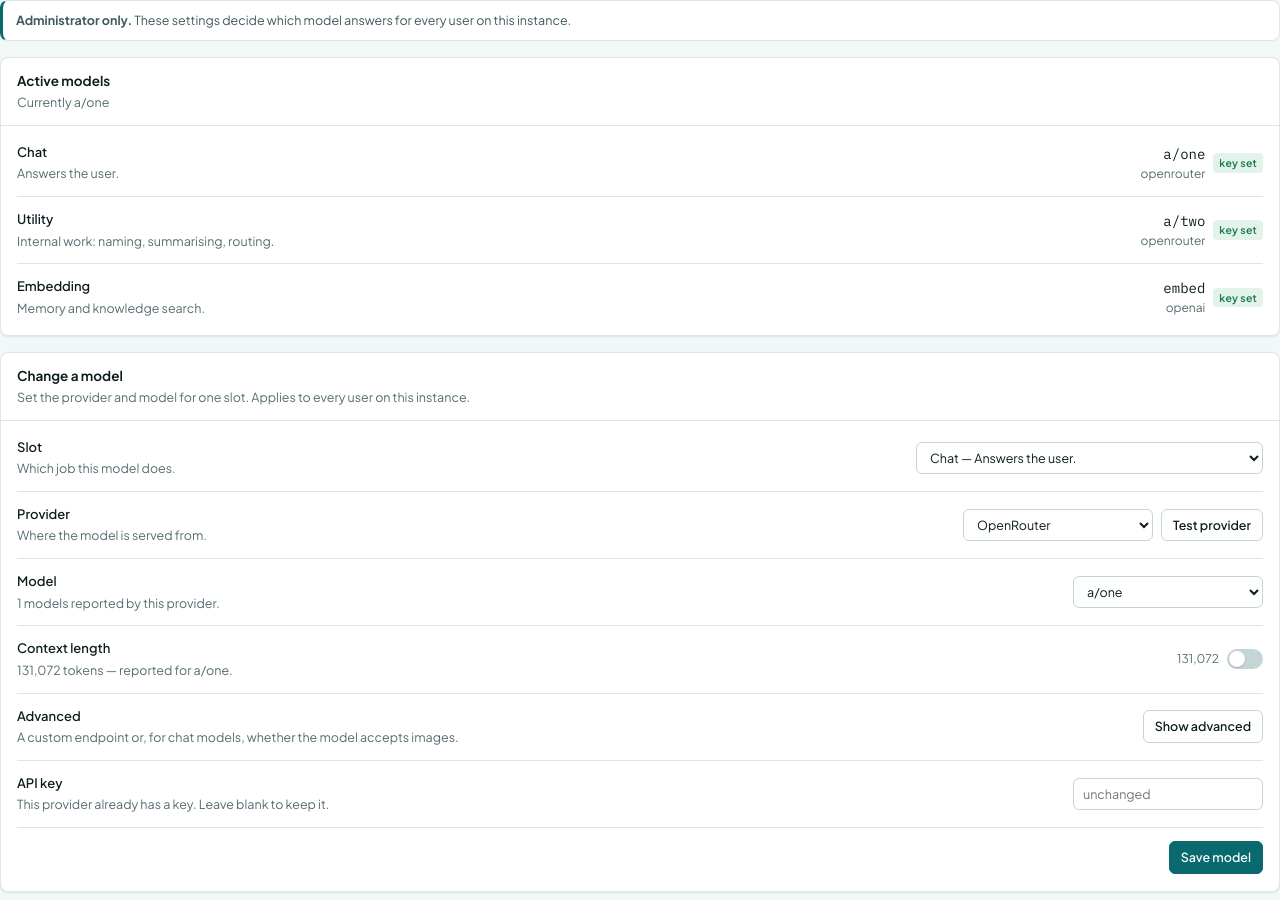
Scenario: ModelsScreen context length › warns when a manual context length is more than the provider reports
Click the switch named "Set context length manually". click: (1245, 659)
box: [1227,649,1263,669]
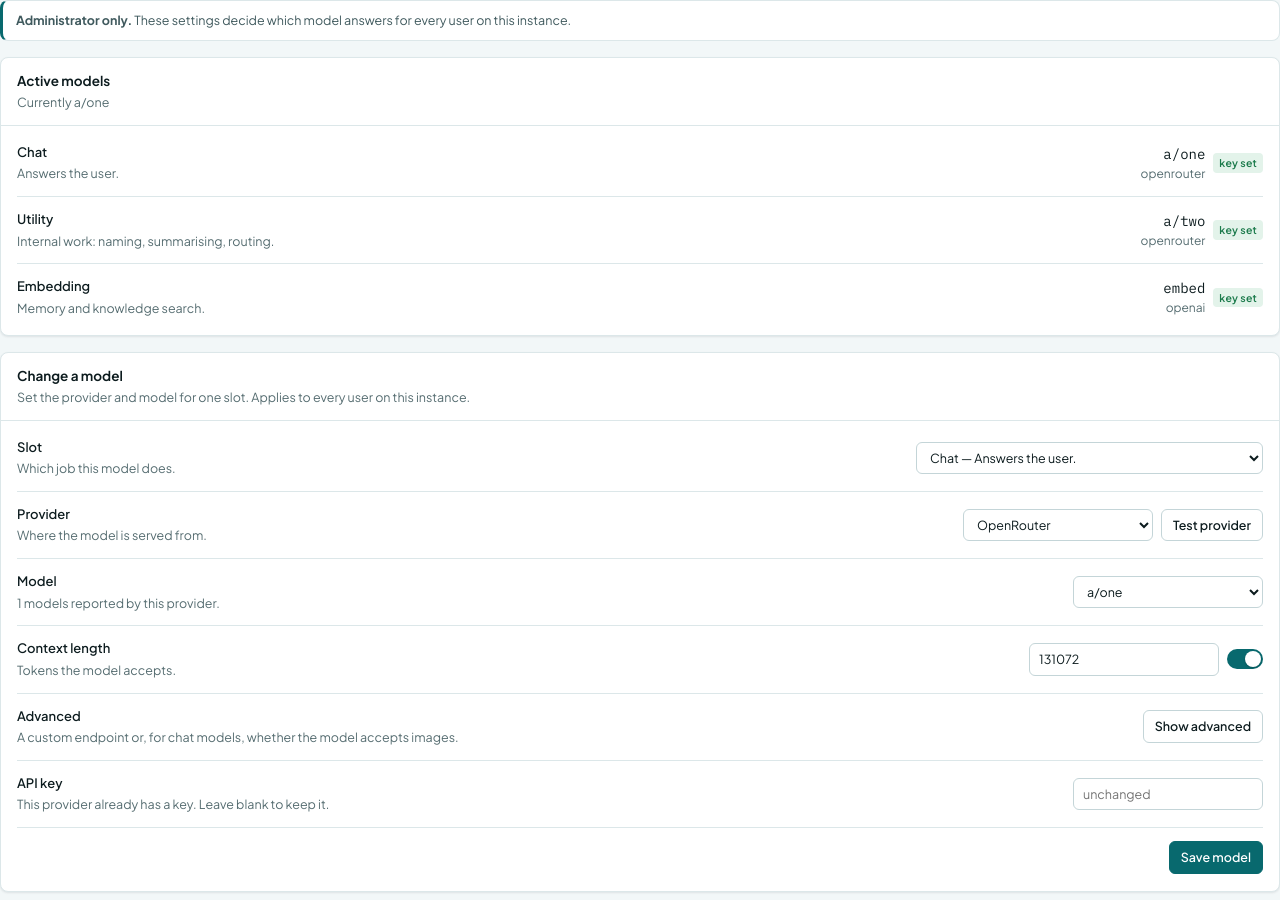
Replace the text in the field named "Context length" with "200000". click: (1124, 659)
box: [1029,643,1219,676]
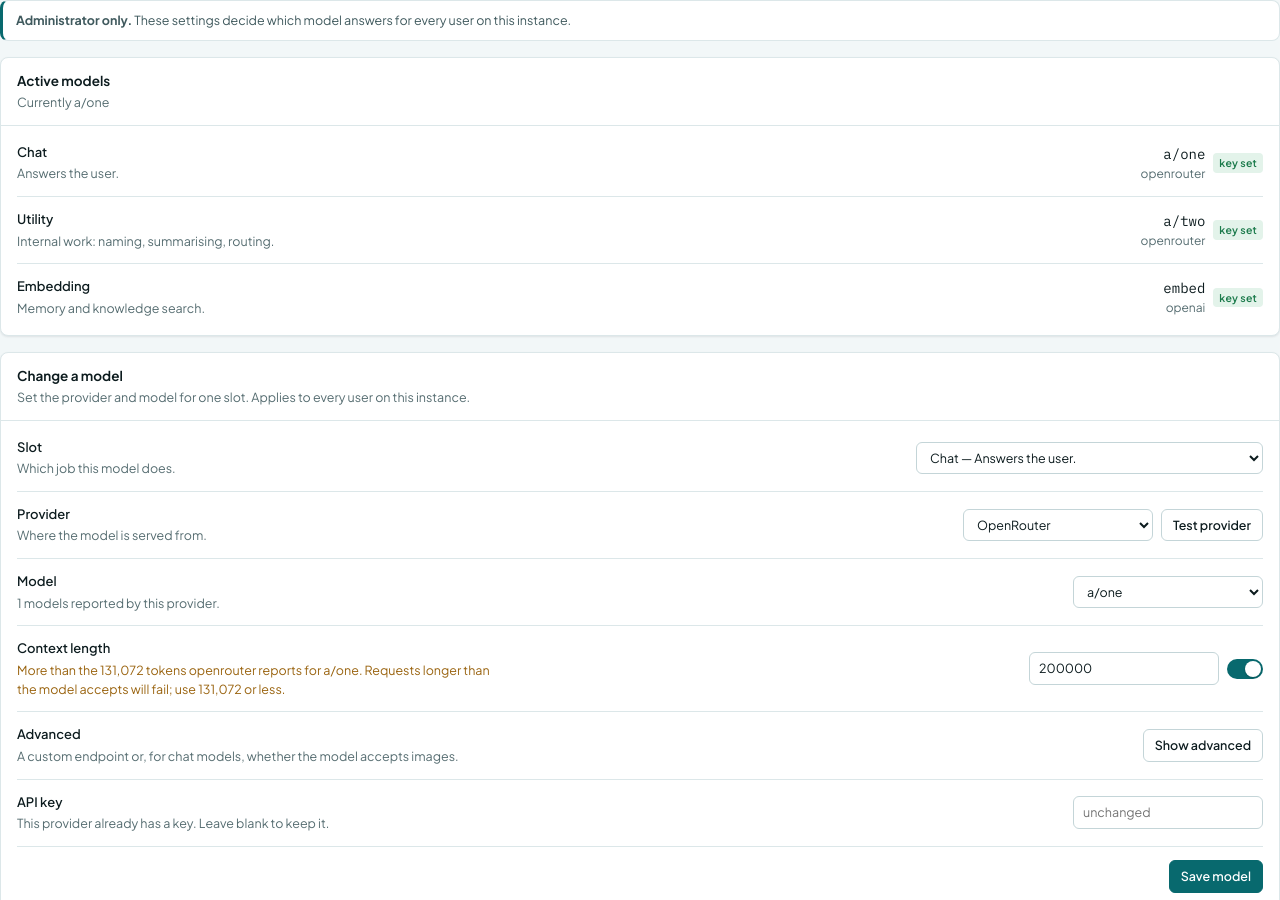
expect the message shows "More than the 131,072 tokens": met, box [17,662,490,697]
Type "100000" into the field named "Context length". click: (1124, 669)
box: [1029,652,1219,685]
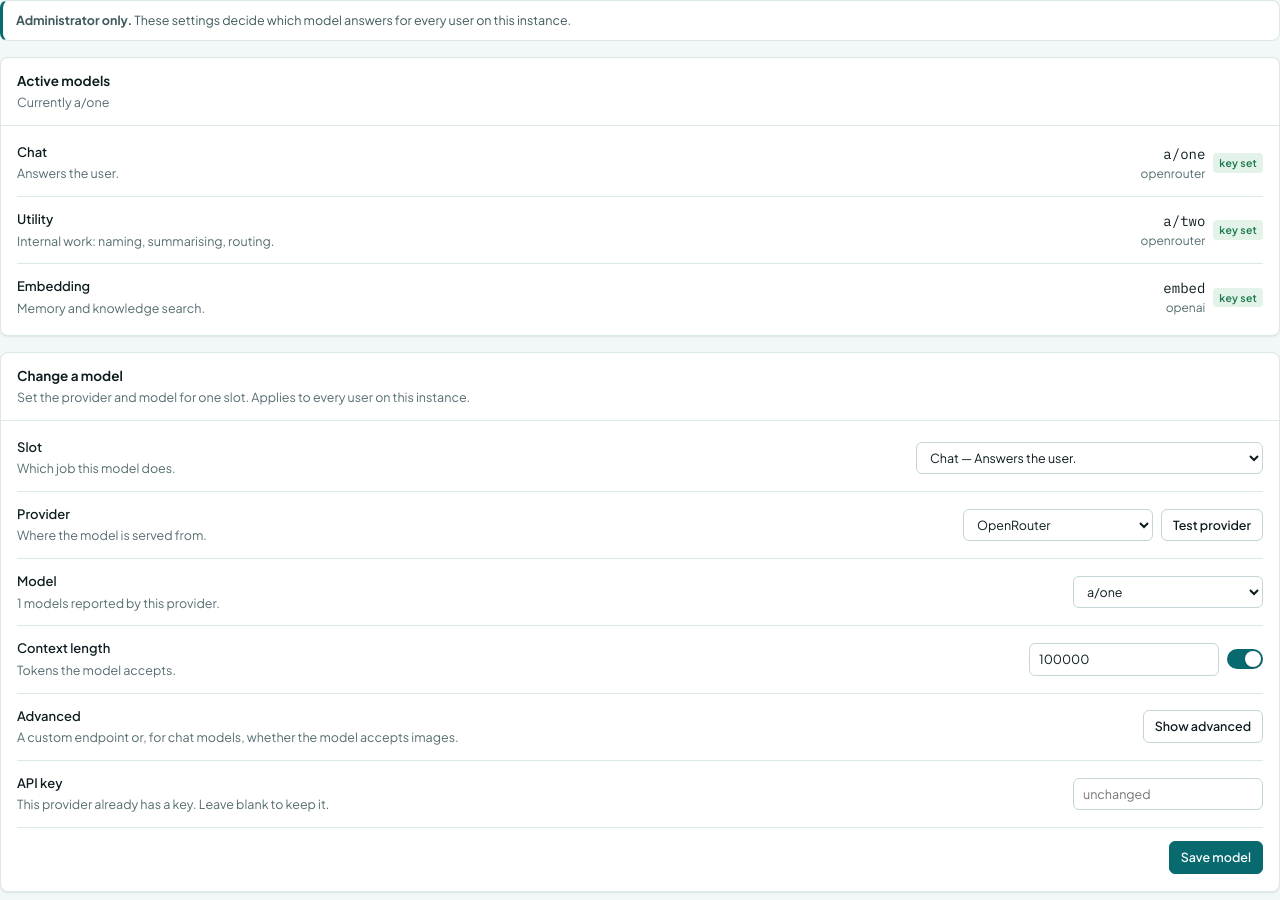
expect the message "More than the 131,072 tokens openrouter reports for a/one. Requests longer than" is gone: met
